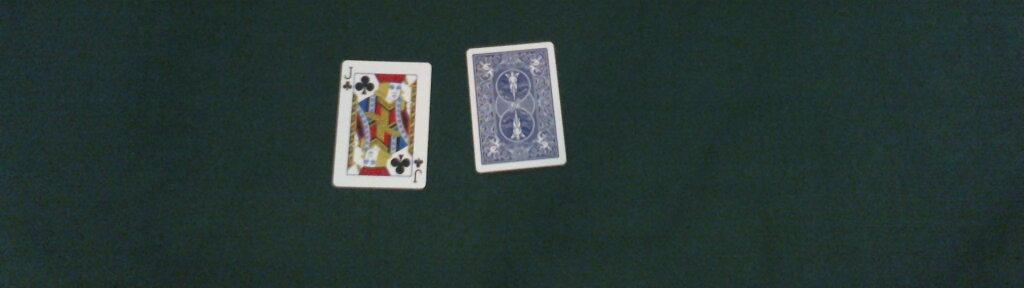back: (465, 42, 568, 172)
jack: (331, 60, 432, 190)
